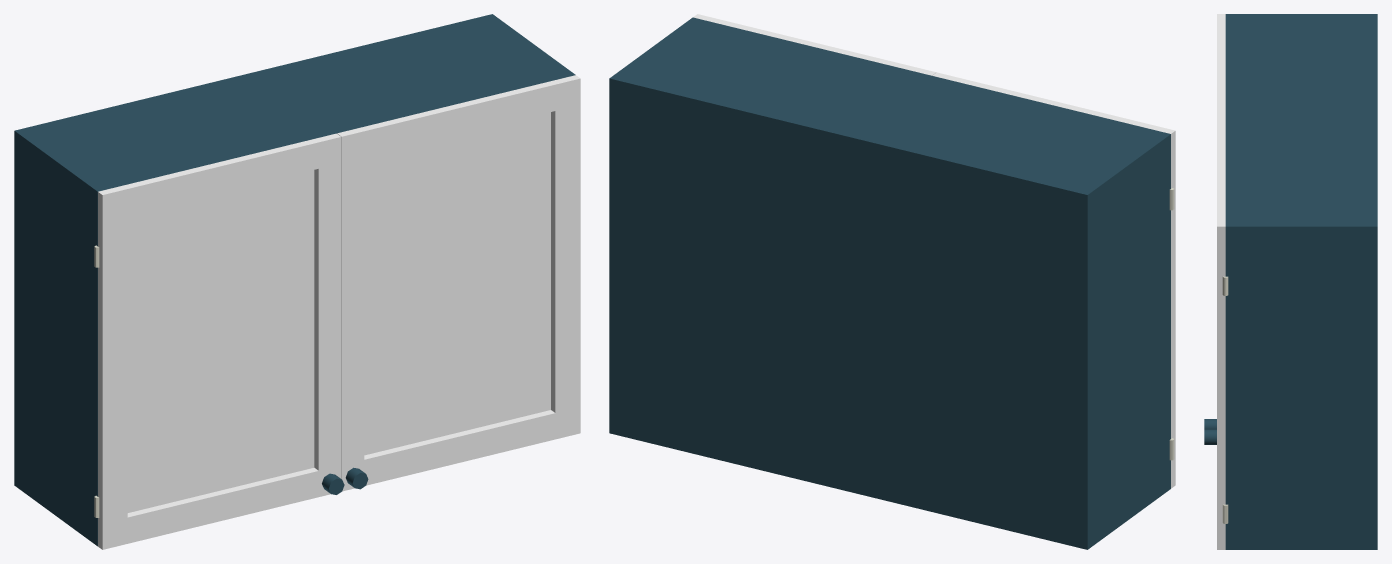
File: Kitchen_D.fbx
The picture shows the model from 3 angles, left to right: view 1: azimuth 30°, elevation 25°; view 2: azimuth 150°, elevation 25°; view 3: azimuth 270°, elevation 25°; orthographic projection. The views are drawn at different scales.
Parts seen in each view (by area): view 1: Kitchen_D; view 2: Kitchen_D; view 3: Kitchen_D.
Boxes of the visible parts, x1,y1,x2,y2 form: Kitchen_D: [14, 14, 580, 549]; Kitchen_D: [609, 14, 1175, 549]; Kitchen_D: [1204, 14, 1377, 549].
Bounding box in the file's own units: 101 × 70.91 × 34.45.
